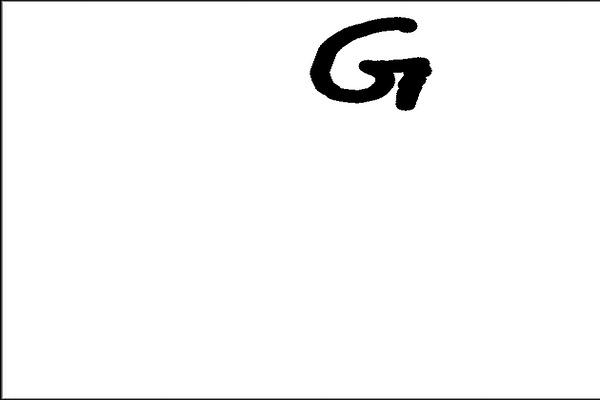G: (304, 13, 433, 119)
